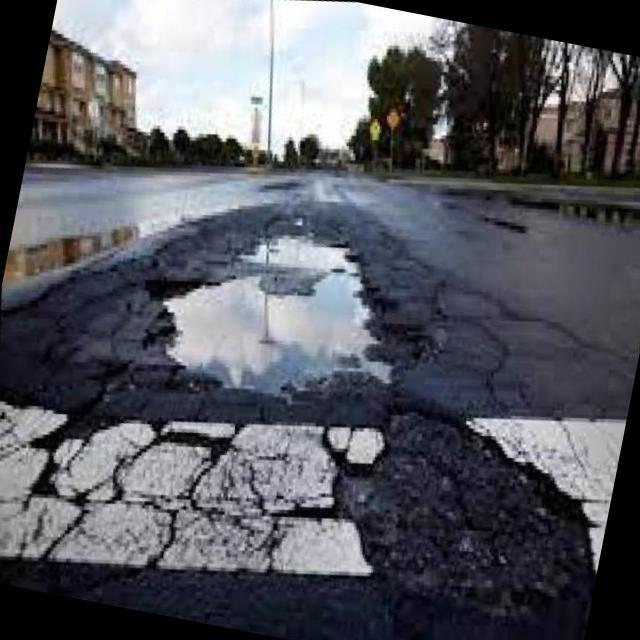pothole: (166, 202, 418, 417)
